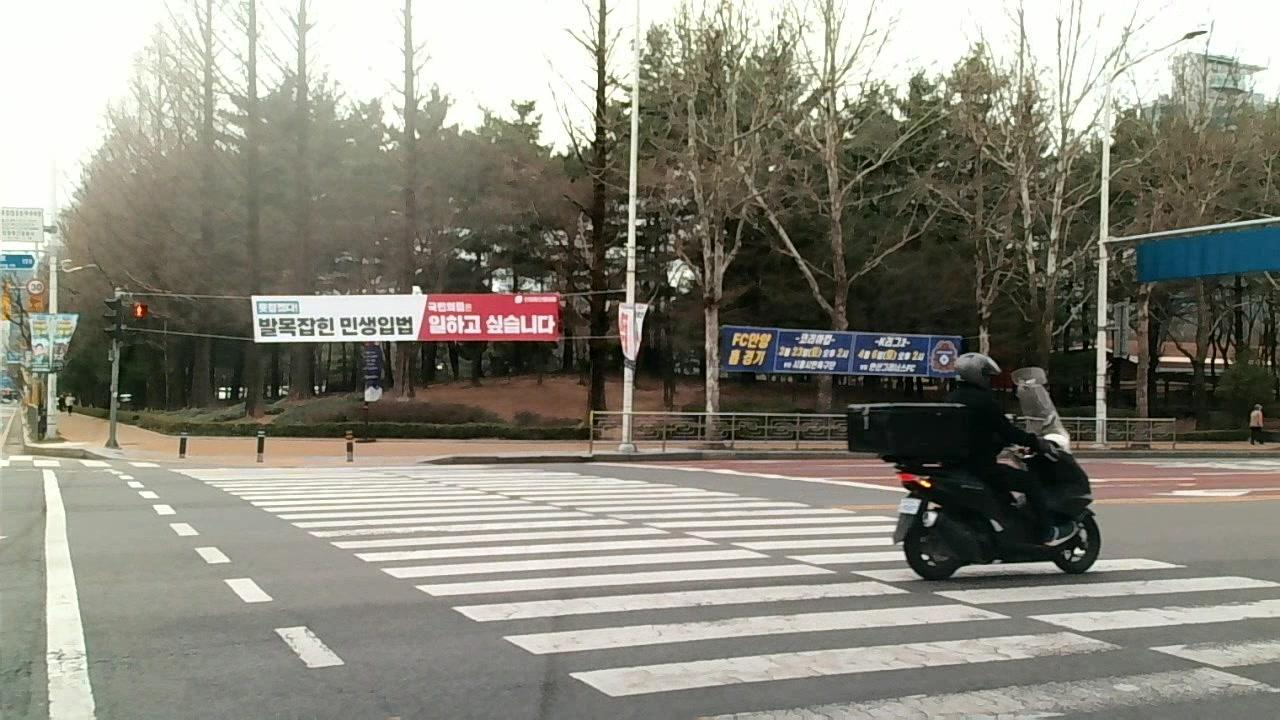banner: (250, 291, 565, 347), (721, 324, 959, 386)
erosion: (703, 635, 1280, 720)
